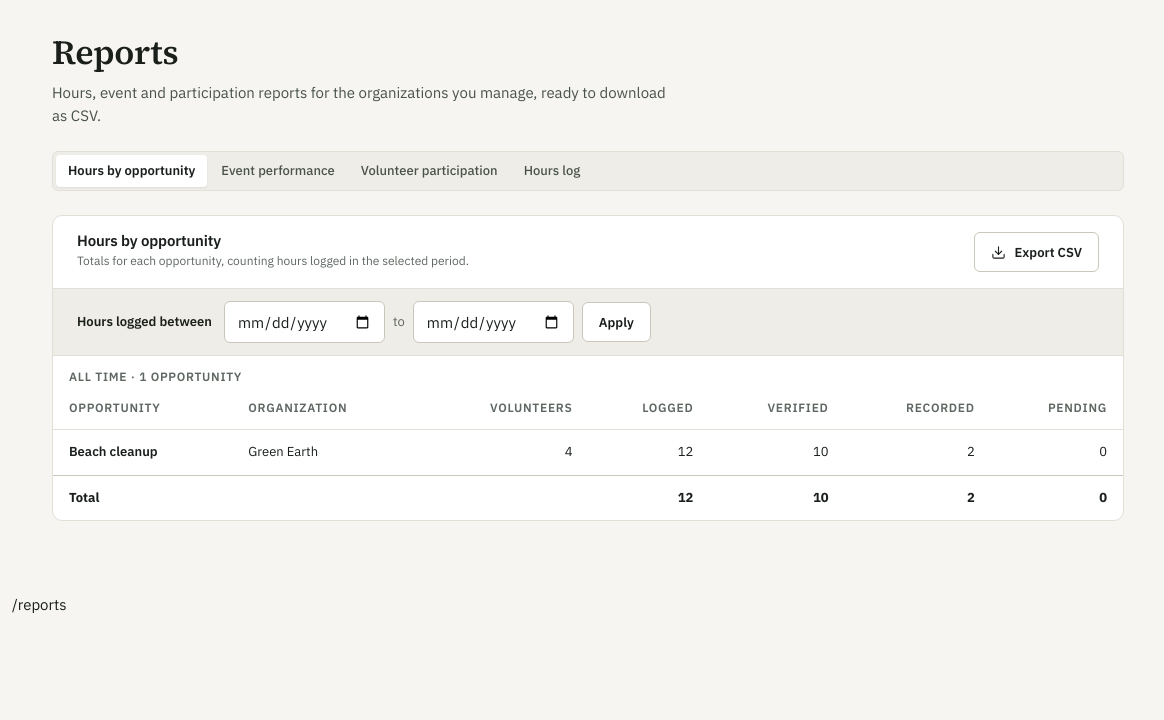
Test: Reports › loads the hours log from the server-side report
Expected: the cell "Beach cleanup" is shown, [53, 430, 232, 475]
Click the button "Hours log": [552, 171] box [512, 155, 592, 187]
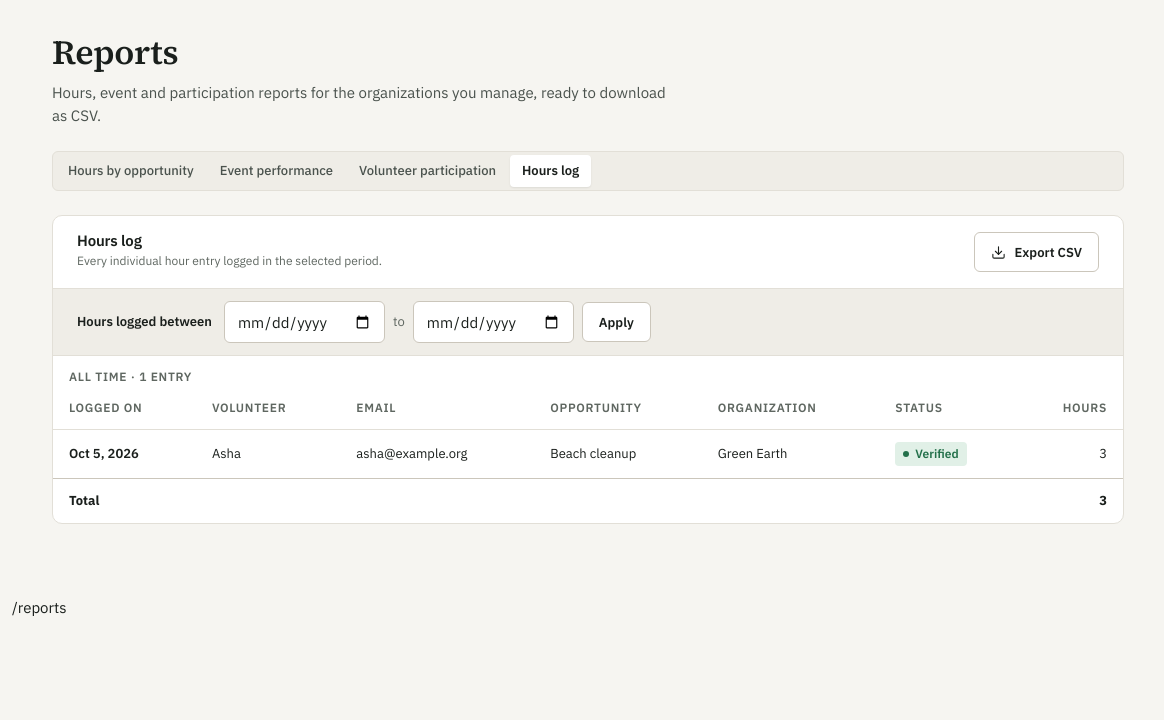
Expected: the cell "Green Earth" is shown, [702, 430, 879, 478]
Expected: the text "All time · 1 entry" is shown, [69, 369, 192, 384]
